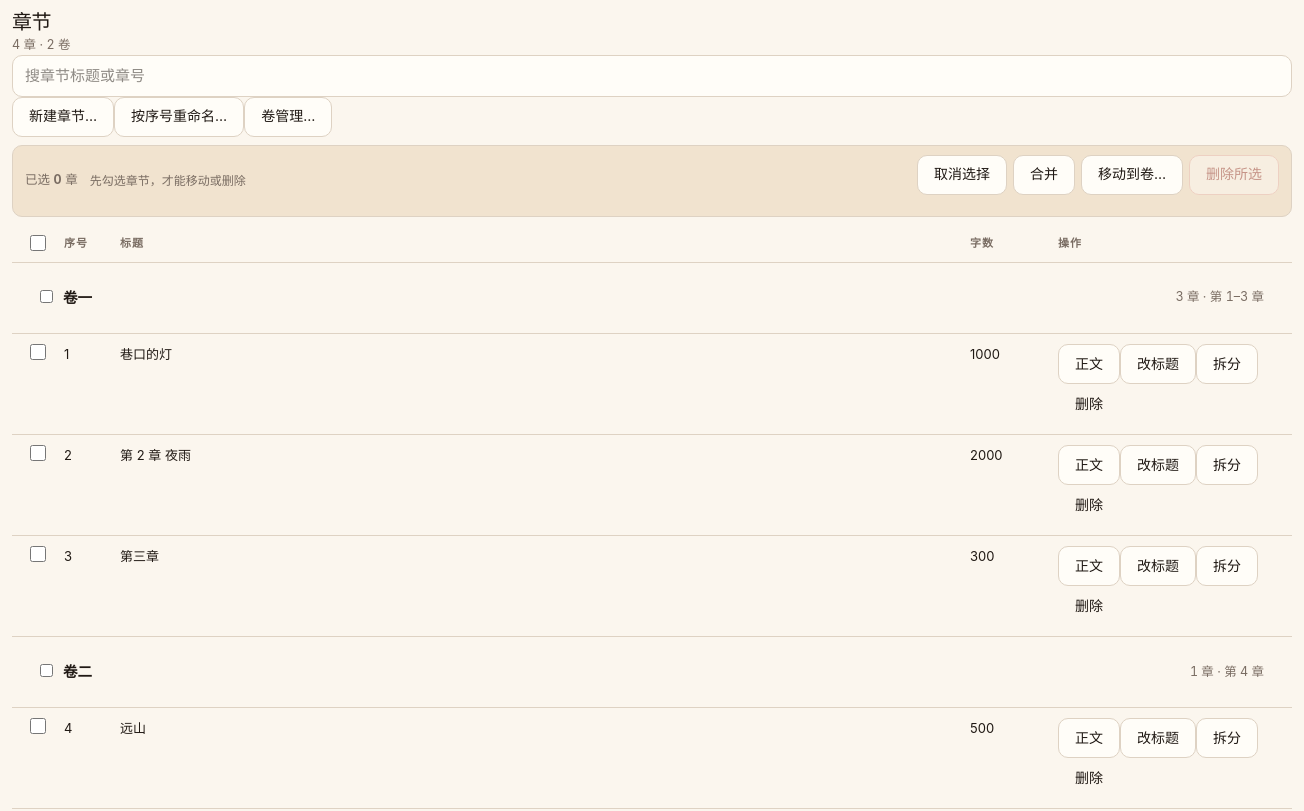
章节勾选与批量条 › 表头勾选 = 全选/反选已载入的章，再点一次全清
Step 1. Click the checkbox with test id "admin-chapter-pick-all" → (38, 242), box [30, 234, 46, 250]
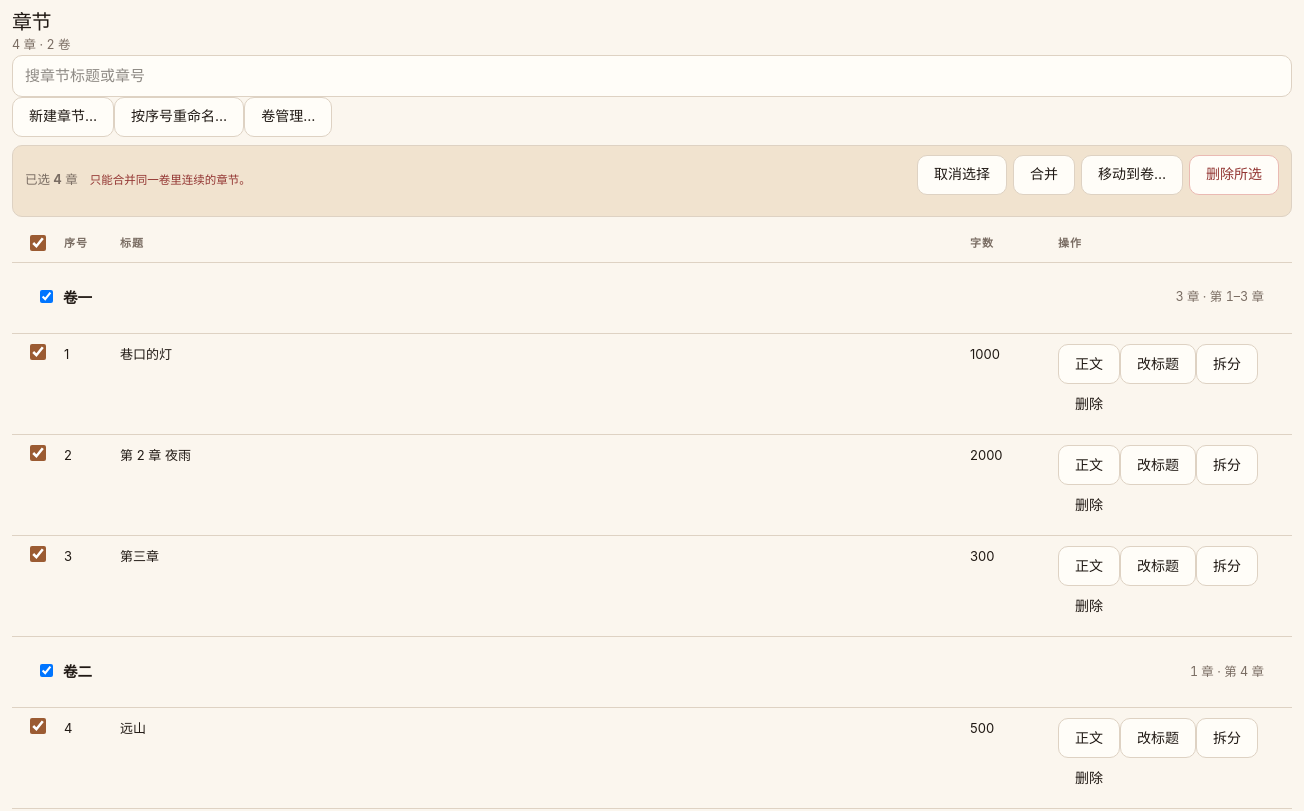
Check: the element with test id "admin-ch-batch" shows "已选 4 章", box [12, 144, 1292, 216]
Step 2. Click the checkbox with test id "admin-chapter-pick-all" → (38, 242), box [30, 234, 46, 250]
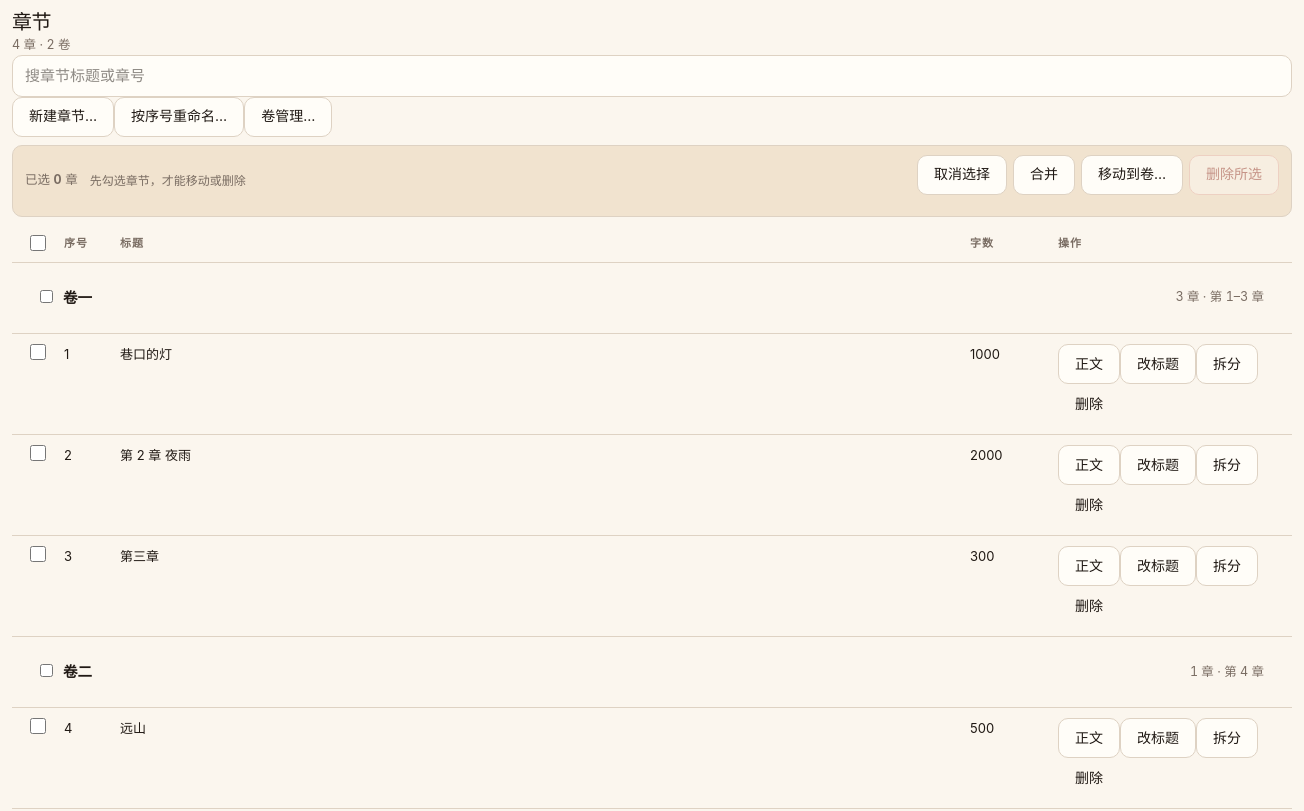
Check: the element with test id "admin-ch-batch" shows "已选 0 章", box [12, 144, 1292, 216]
Check: the element with test id "admin-ch-batch" shows "先勾选章节，才能移动或删除", box [90, 173, 246, 188]
Check: the button with test id "admin-ch-batch-delete" is disabled, box [1189, 154, 1279, 194]
